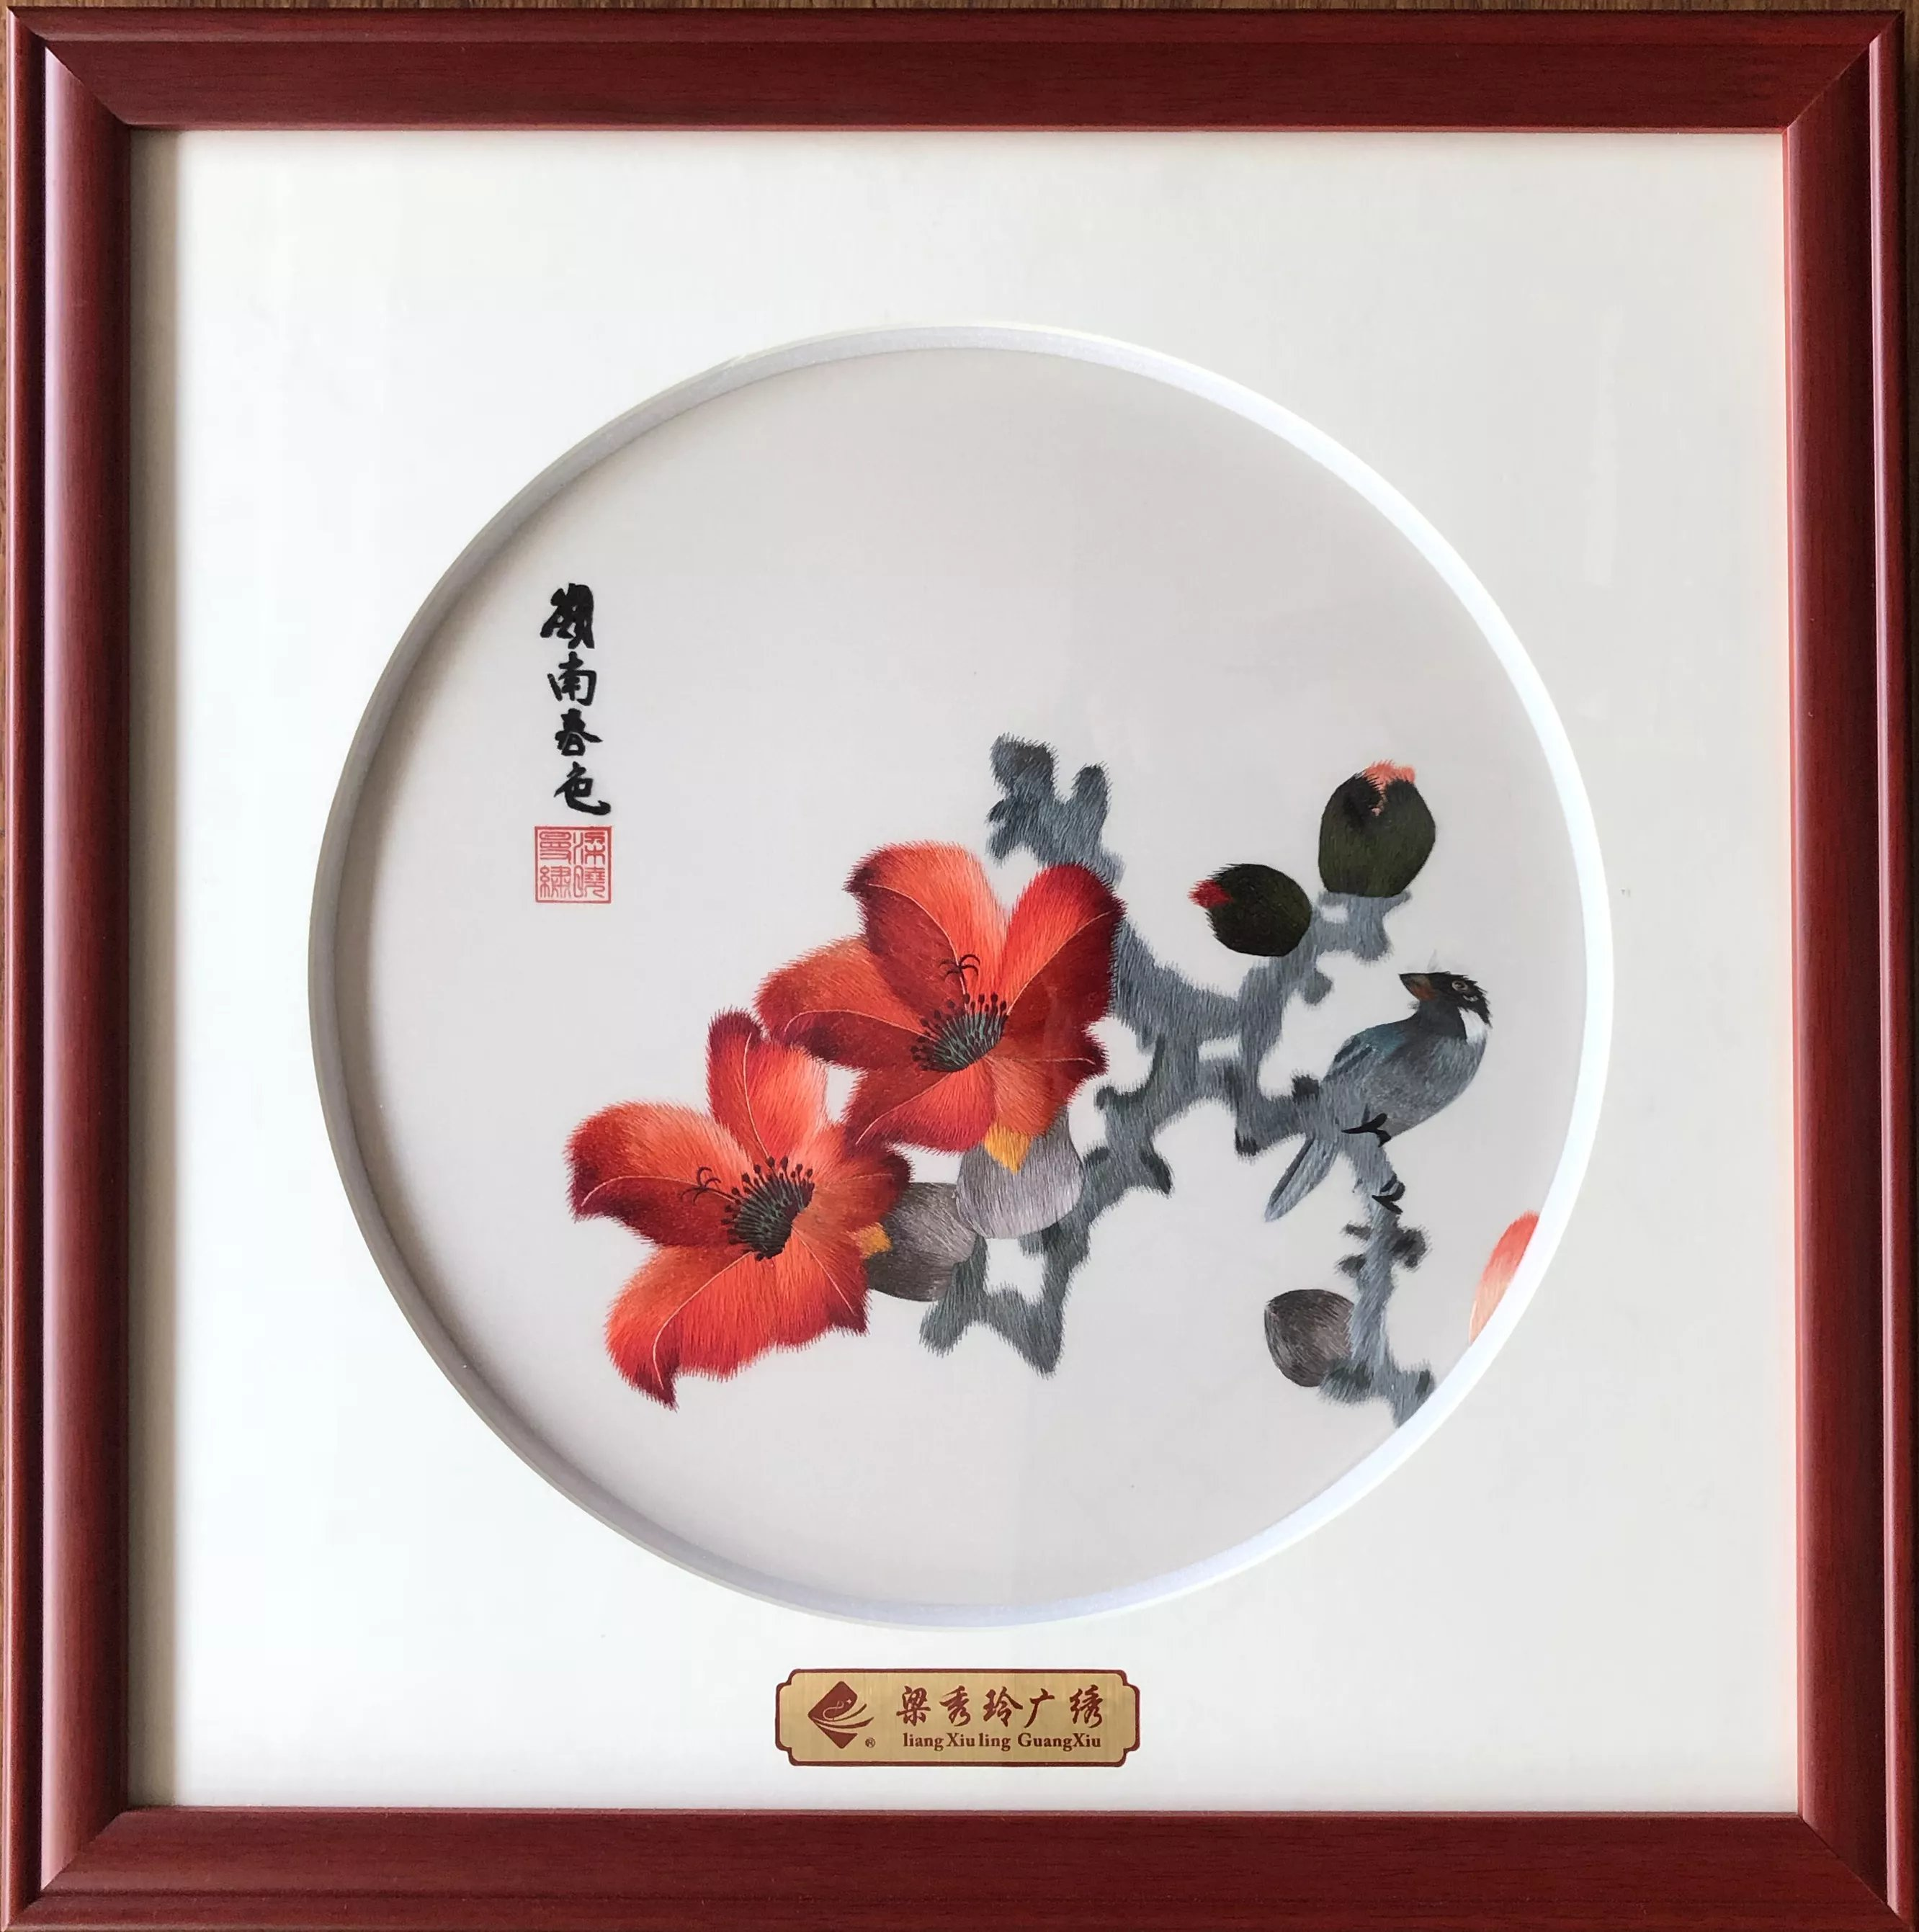bird: (1258, 967, 1490, 1225)
kapok: (557, 1014, 916, 1413), (759, 842, 1151, 1162)
